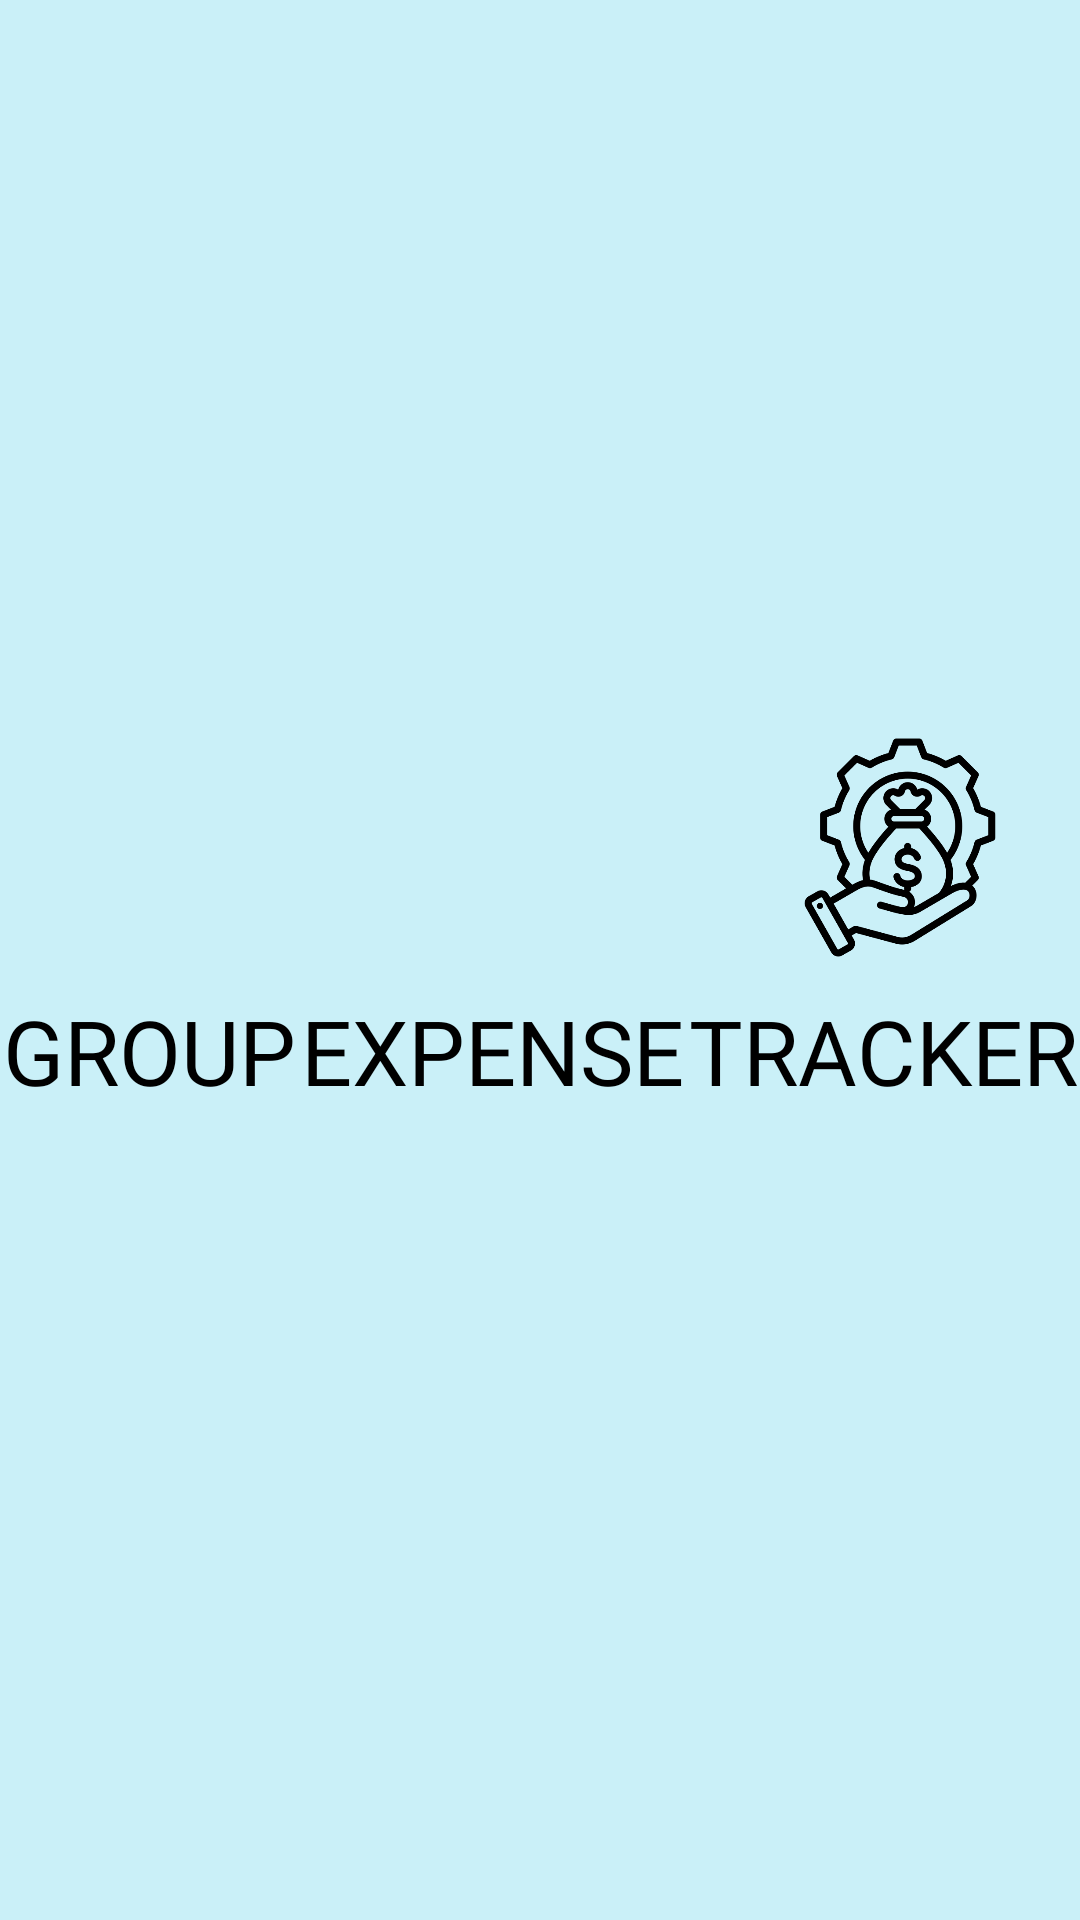

Screen size 1080px×1920px. Icon name, then its center in pixels as (x,y):
manager: (900,847)
